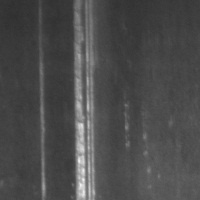scratches: (70, 1, 99, 200), (36, 28, 49, 200)
